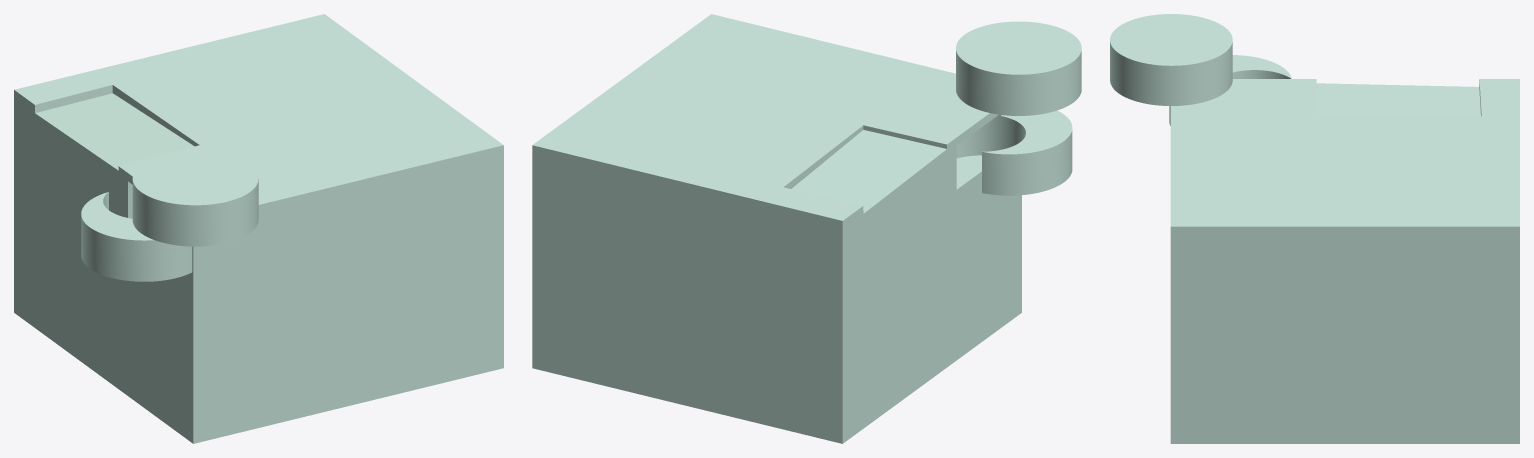
3 views of the same model, side by side, from view 1: azimuth 30°, elevation 25°; view 2: azimuth 150°, elevation 25°; view 3: azimuth 270°, elevation 25° (orthographic). The views are drawn at different scales.
Parts seen in each view (by area): view 1: Renderer Node; view 2: Renderer Node; view 3: Renderer Node.
Part boxes in pixels (<box>): Renderer Node: <box>14,14,503,443</box>; Renderer Node: <box>532,14,1081,443</box>; Renderer Node: <box>1110,14,1519,443</box>.
Bounding box in the file's own units: 1.14 × 0.75 × 1.08.
